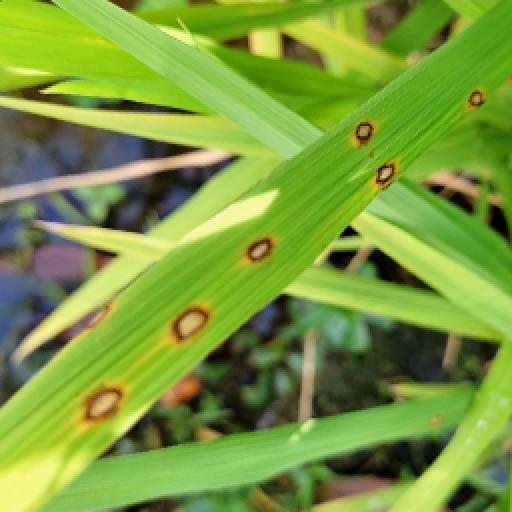Brown Spot: (76, 380, 128, 430), (166, 302, 210, 344), (240, 232, 278, 270), (84, 298, 118, 334), (370, 158, 404, 192), (354, 114, 380, 146), (466, 82, 488, 114)
